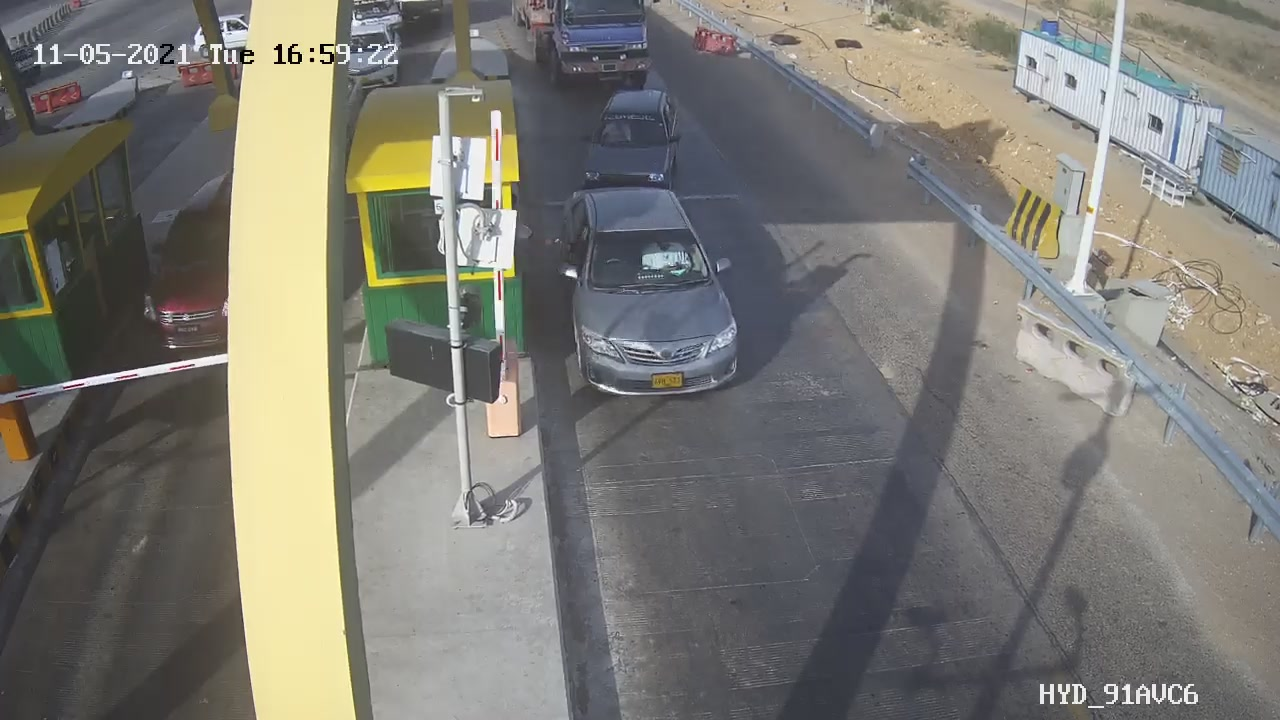F1: (542, 172, 761, 418)
